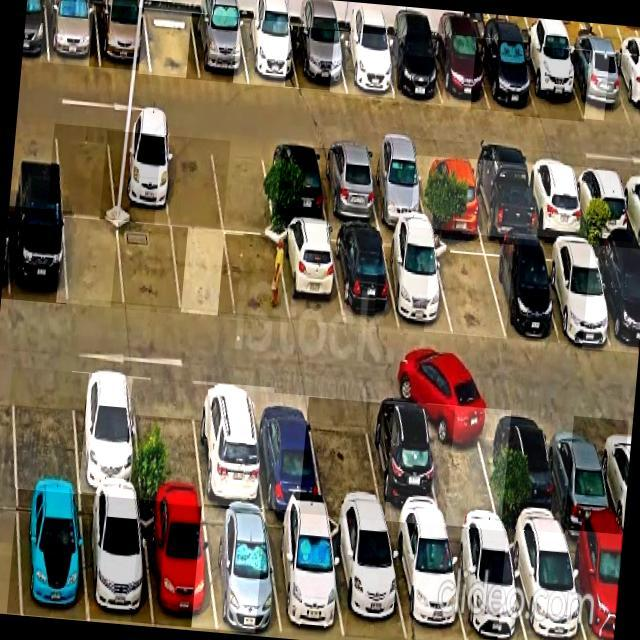empty: (308, 397, 384, 520), (427, 404, 501, 530), (133, 378, 204, 504), (13, 368, 79, 490), (433, 239, 505, 338), (211, 139, 274, 236), (162, 135, 223, 230), (171, 228, 236, 317), (118, 222, 180, 314), (55, 124, 115, 218), (225, 234, 289, 322), (64, 216, 124, 307), (144, 8, 201, 79)
occupied: (202, 507, 281, 635), (364, 401, 445, 525), (266, 513, 344, 640), (140, 501, 217, 629), (328, 517, 406, 640), (82, 494, 152, 624), (387, 525, 466, 640), (447, 526, 526, 640), (545, 414, 618, 537), (17, 491, 86, 620), (193, 384, 264, 509), (251, 390, 322, 512), (506, 531, 585, 640), (496, 408, 564, 533), (73, 371, 140, 497), (539, 242, 613, 345), (381, 232, 452, 333), (483, 242, 557, 338), (331, 228, 399, 326), (278, 225, 343, 325), (565, 533, 622, 640), (107, 130, 170, 226), (9, 206, 66, 304), (468, 159, 536, 240), (591, 245, 640, 353), (263, 144, 328, 223), (417, 155, 481, 233), (316, 147, 380, 225), (563, 48, 630, 122), (365, 151, 429, 227), (519, 45, 584, 119), (524, 162, 586, 239), (572, 165, 632, 242), (477, 38, 537, 114), (431, 35, 489, 109), (382, 35, 442, 104), (239, 18, 298, 88), (192, 13, 249, 84), (335, 31, 394, 98), (95, 4, 150, 71), (290, 26, 345, 91), (46, 0, 99, 67), (610, 54, 640, 124)
